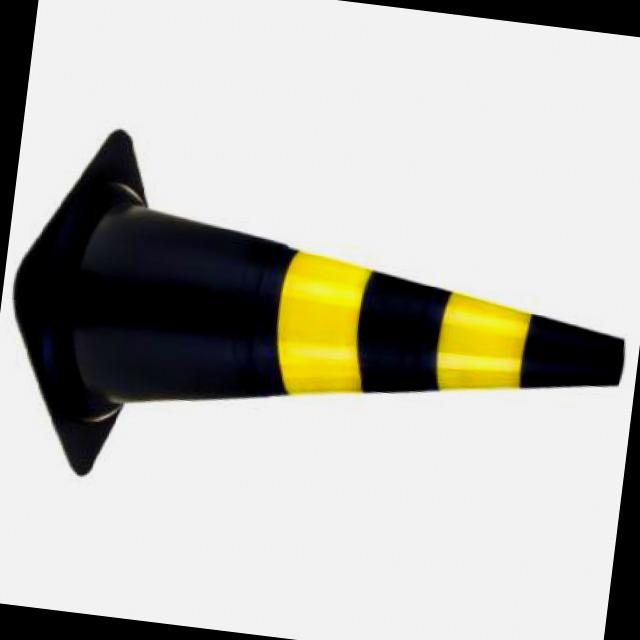cone: (28, 153, 630, 498)
